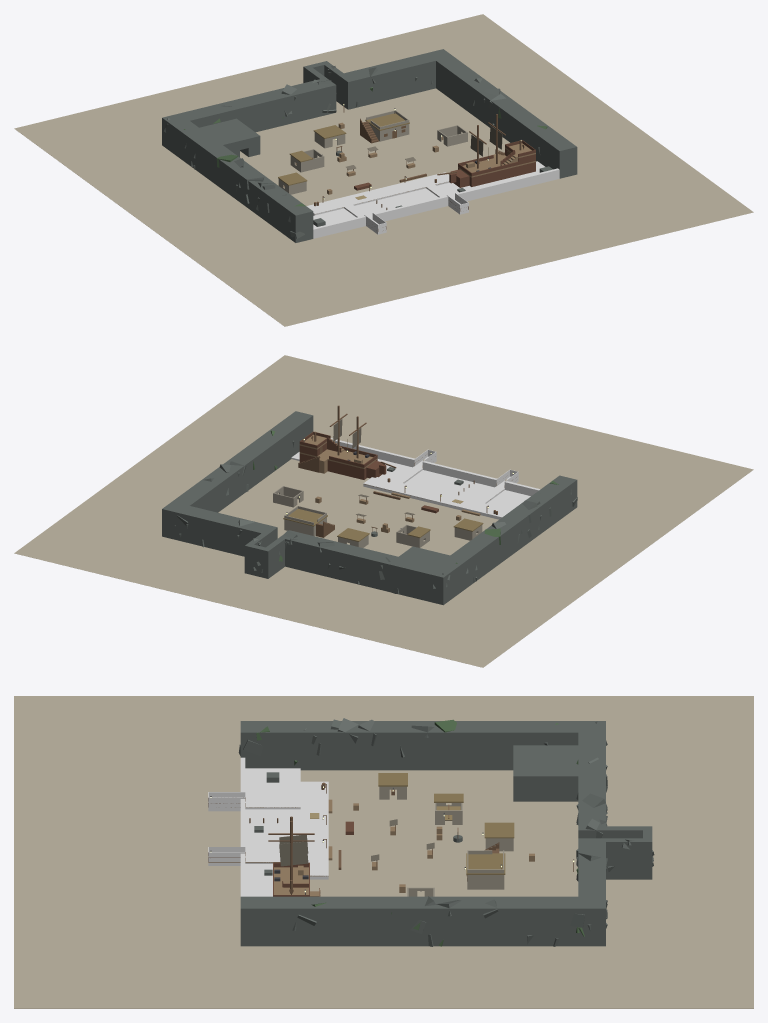
Rendered from level.glb.
3 views of the same model, one above another, from view 1: azimuth 30°, elevation 25°; view 2: azimuth 150°, elevation 25°; view 3: azimuth 270°, elevation 25° (orthographic). The views are drawn at different scales.
Parts seen in each view (by area): view 1: Ground, Cliff_1, Cliff_30, Cliff_59, Cliff_80, Z_Water_454, C_Block_258, C_Block_457, C_Block_456, Hull_Solid, C_Block_455, Cliff_109; view 2: Ground, Cliff_59, Cliff_1, Cliff_30, Cliff_80, Z_Water_454, C_Block_258, Cliff_103, C_Block_456, C_Block_457, Hull_Solid; view 3: Ground, Cliff_30, Cliff_1, Z_Water_454, Cliff_59, C_Block_258, Cliff_80, Cliff_109, Cliff_99, CaveRoof_111, Roof_tavern, C_Block_294 (+4 smaller).
Part boxes in pixels (x1,y1,x2,y2): Ground: [14, 14, 753, 326]; Cliff_1: [162, 113, 313, 242]; Cliff_30: [426, 49, 577, 178]; Cliff_59: [162, 77, 336, 145]; Cliff_80: [338, 49, 453, 109]; Z_Water_454: [313, 161, 559, 238]; C_Block_258: [306, 172, 449, 215]; C_Block_457: [456, 168, 559, 200]; C_Block_456: [374, 195, 448, 221]; Hull_Solid: [458, 162, 535, 186]; C_Block_455: [313, 215, 365, 238]; Cliff_109: [229, 121, 260, 156]; Ground: [14, 355, 753, 667]; Cliff_59: [279, 530, 453, 604]; Cliff_1: [426, 475, 577, 605]; Cliff_30: [162, 411, 313, 540]; Cliff_80: [162, 501, 277, 556]; Z_Water_454: [291, 452, 530, 509]; C_Block_258: [363, 477, 511, 519]; Cliff_103: [244, 543, 271, 578]; C_Block_456: [423, 461, 496, 487]; C_Block_457: [330, 438, 414, 467]; Hull_Solid: [299, 453, 377, 479]; Ground: [14, 696, 753, 1008]; Cliff_30: [240, 896, 605, 946]; Cliff_1: [240, 721, 605, 770]; Z_Water_454: [245, 768, 300, 896]; Cliff_59: [578, 721, 605, 838]; C_Block_258: [300, 781, 328, 879]; Cliff_80: [578, 838, 605, 946]; Cliff_109: [513, 768, 568, 801]; Cliff_99: [606, 838, 642, 879]; CaveRoof_111: [532, 749, 568, 768]; Roof_tavern: [466, 853, 505, 874]; C_Block_294: [208, 801, 300, 811].
Size of the model in its own units: 160 by 21.86 by 160.
